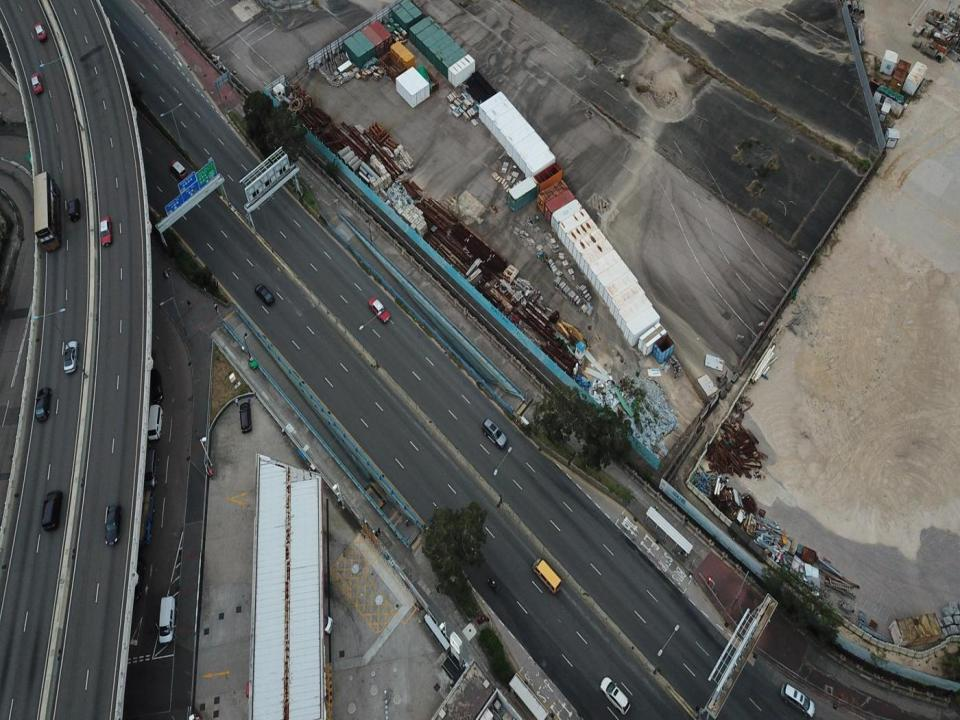bus: (32, 170, 63, 252)
car: (599, 674, 633, 714), (118, 554, 145, 603), (780, 683, 814, 718), (40, 489, 65, 530), (156, 594, 175, 645), (480, 419, 507, 450), (143, 445, 161, 489), (144, 365, 164, 404), (104, 503, 122, 546), (368, 294, 392, 323), (33, 386, 51, 422), (63, 337, 80, 374), (238, 398, 253, 433), (254, 281, 274, 307), (98, 214, 114, 246), (168, 156, 186, 183), (29, 70, 44, 94), (65, 197, 80, 221), (33, 19, 47, 43)
truck: (134, 485, 154, 548)
van: (531, 557, 563, 595), (145, 404, 164, 441)
